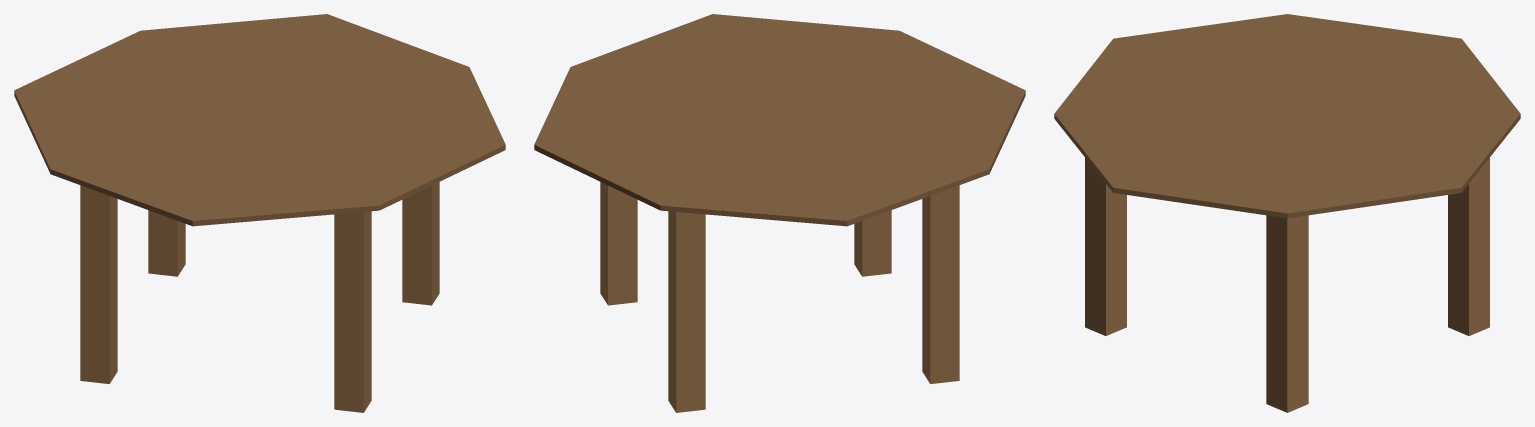
The model's file is Стол.fbx.
3 renders of one model, left to right at view 1: azimuth 30°, elevation 25°; view 2: azimuth 150°, elevation 25°; view 3: azimuth 270°, elevation 25°, orthographic. The views are drawn at different scales.
Parts seen in each view (by area): view 1: Cube.001; view 2: Cube.001; view 3: Cube.001.
Part boxes in pixels (box(x1,y1,x2,y2)): Cube.001: box(14, 14, 505, 412); Cube.001: box(534, 14, 1025, 412); Cube.001: box(1054, 14, 1520, 412).
Size of the model in its own units: 260 by 130 by 257.
